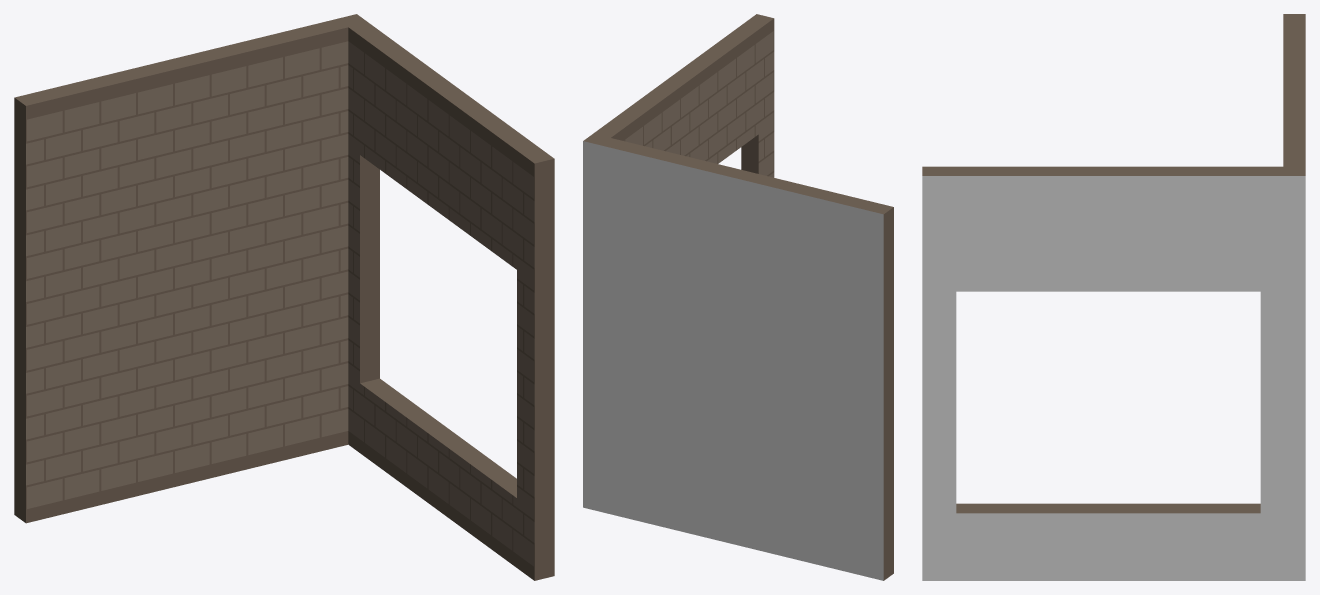
Rendered from Wall1_C10_14.fbx.
The picture shows the model from 3 angles, left to right: view 1: azimuth 30°, elevation 25°; view 2: azimuth 150°, elevation 25°; view 3: azimuth 270°, elevation 25°; orthographic projection. The views are drawn at different scales.
Parts seen in each view (by area): view 1: Wall1_C10_14; view 2: Wall1_C10_14; view 3: Wall1_C10_14.
Part boxes in pixels (left/top/right/bottom): Wall1_C10_14: left=14, top=14, right=554, bottom=580; Wall1_C10_14: left=583, top=14, right=893, bottom=580; Wall1_C10_14: left=922, top=14, right=1305, bottom=580.
Size of the model in its own units: 258 by 300 by 258.
